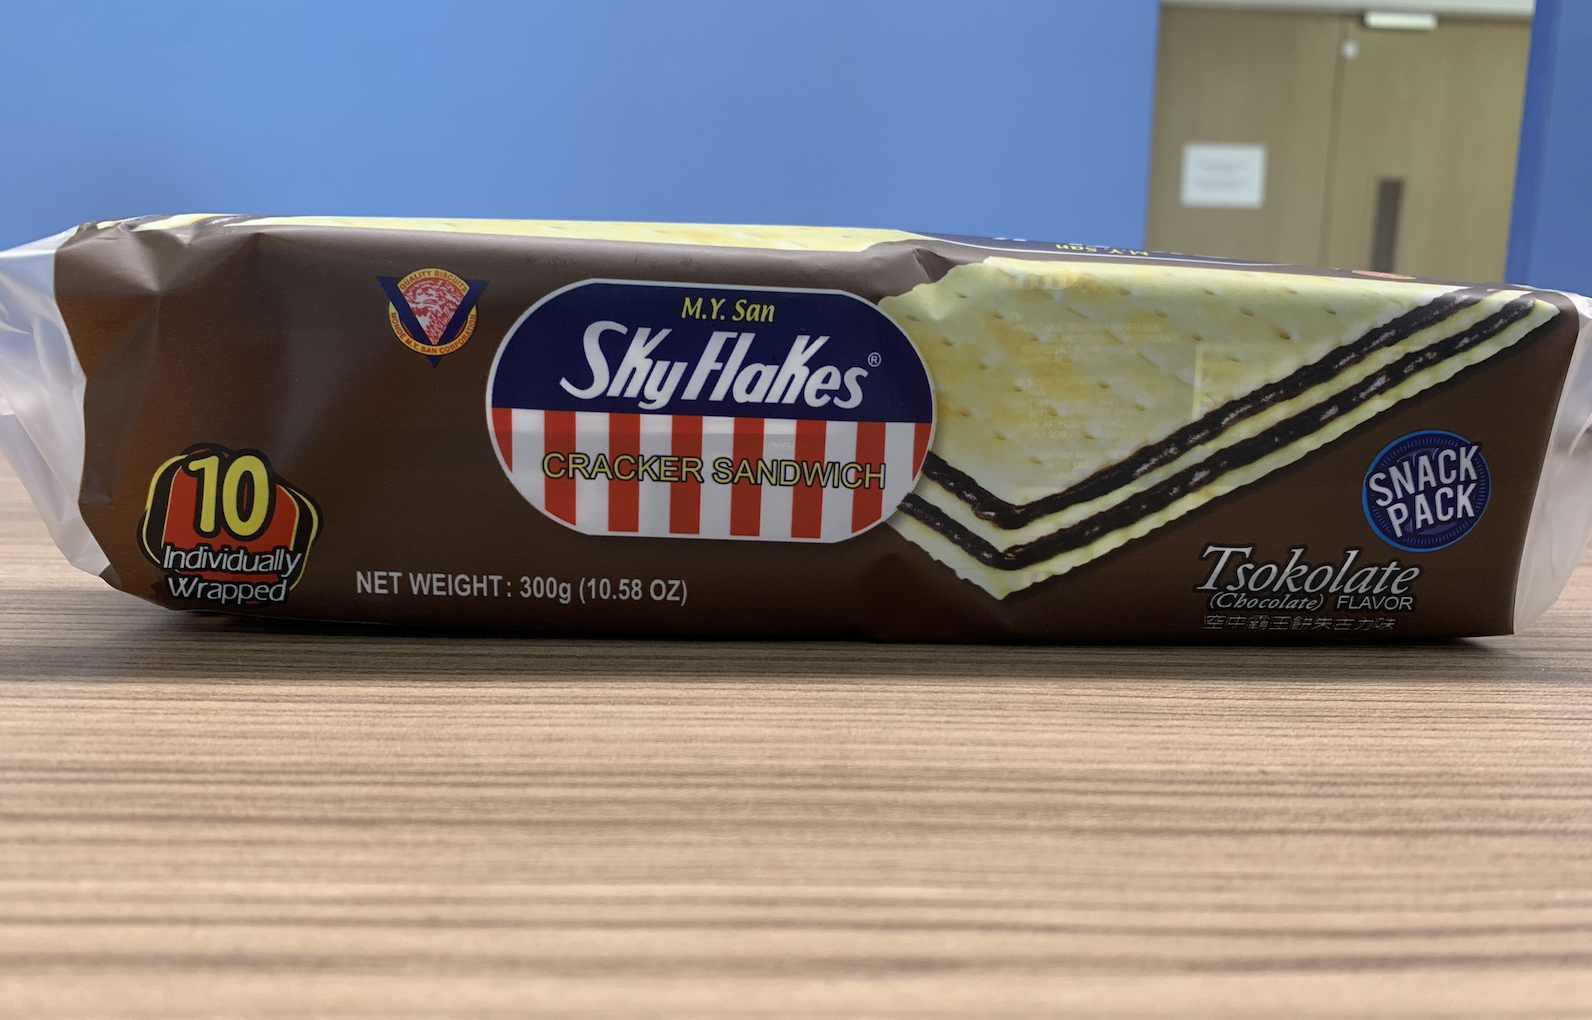crackers_450g: (140, 262, 1522, 639)
